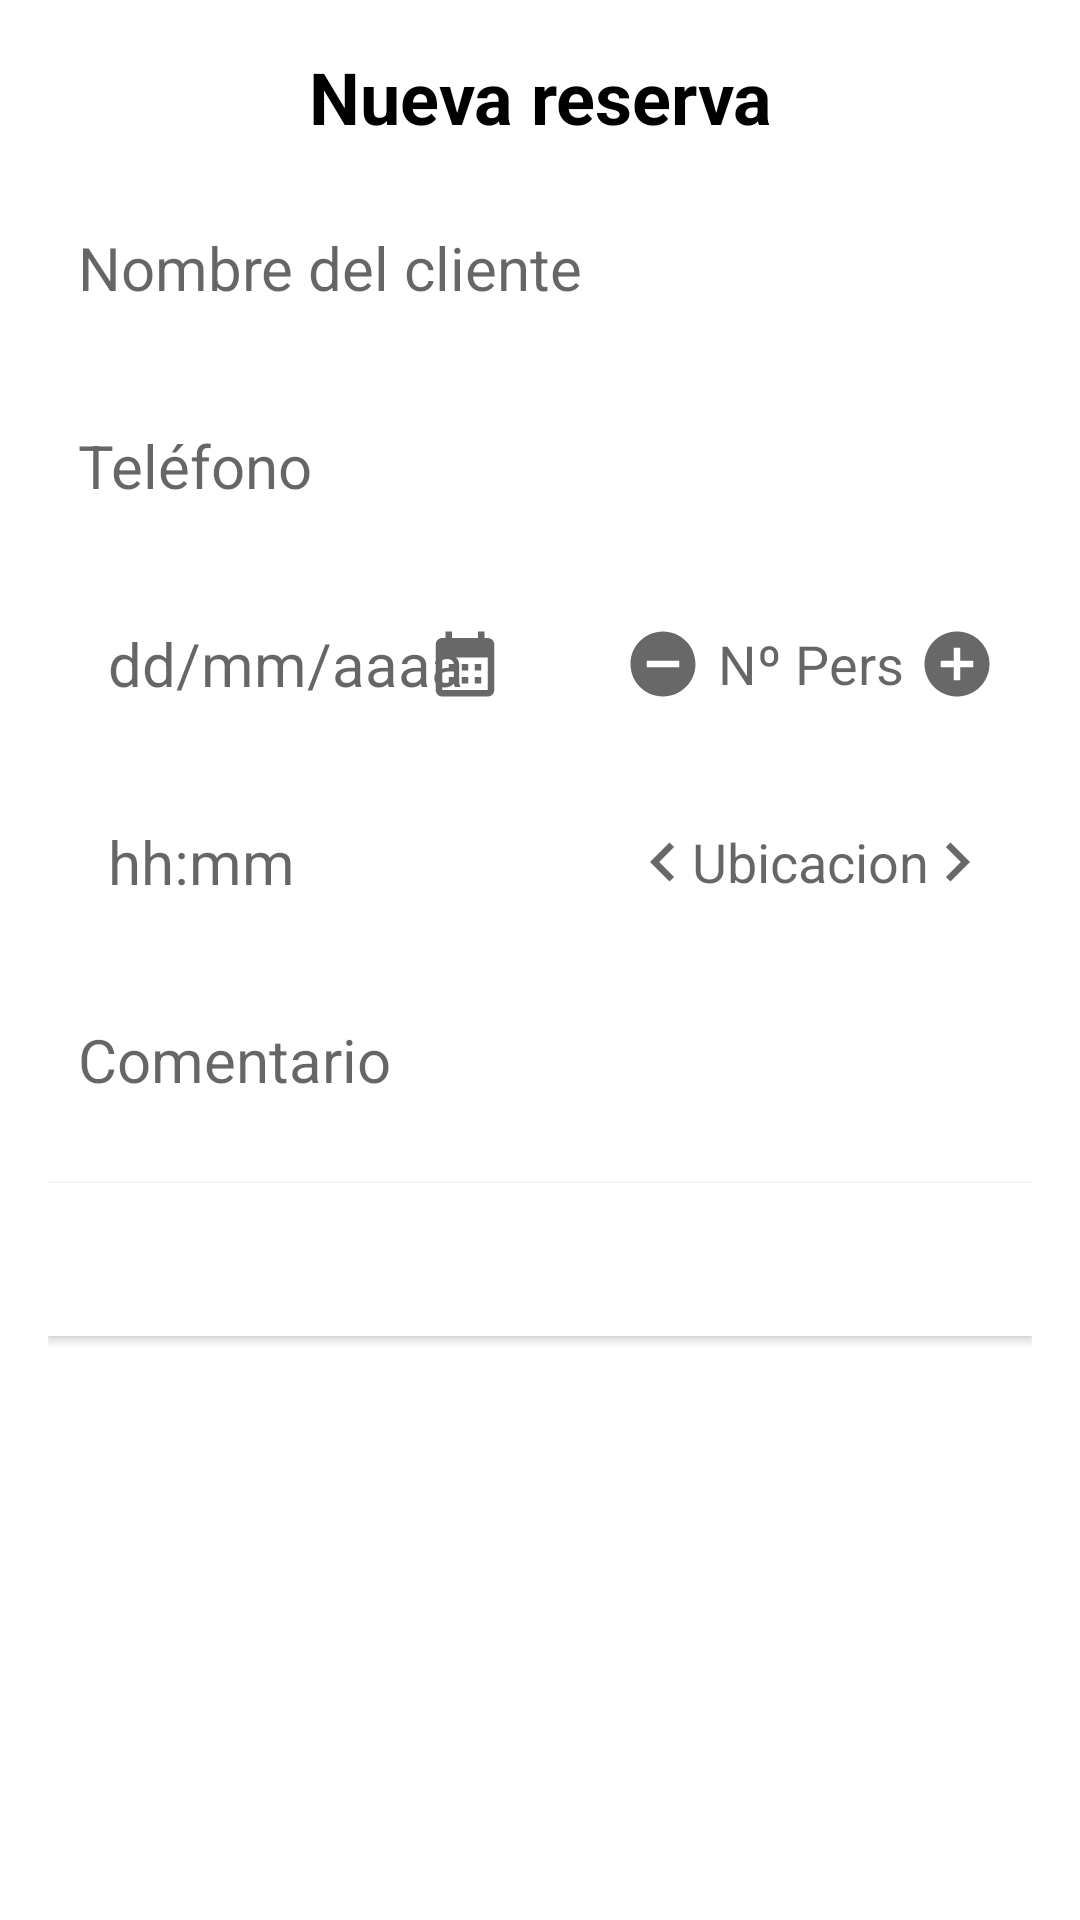

Where to tap for icons on this 1080*1920 app screen, as (x,y):
less: (663,664)
